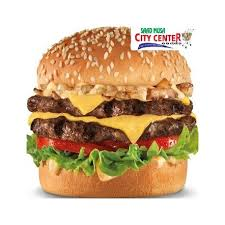hamburger: (27, 24, 199, 199)
